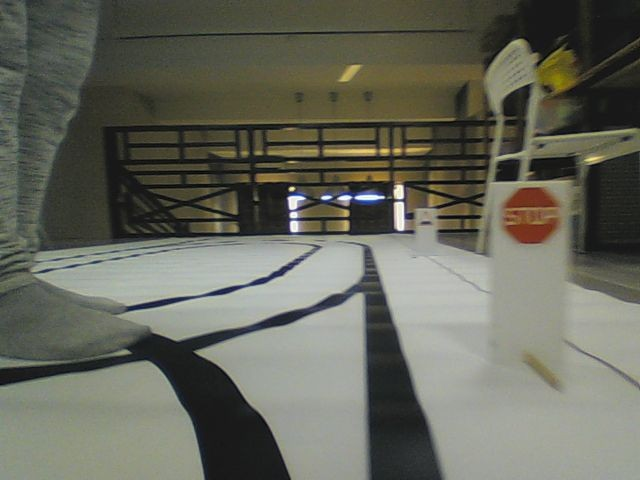Stop: (504, 186, 561, 245)
